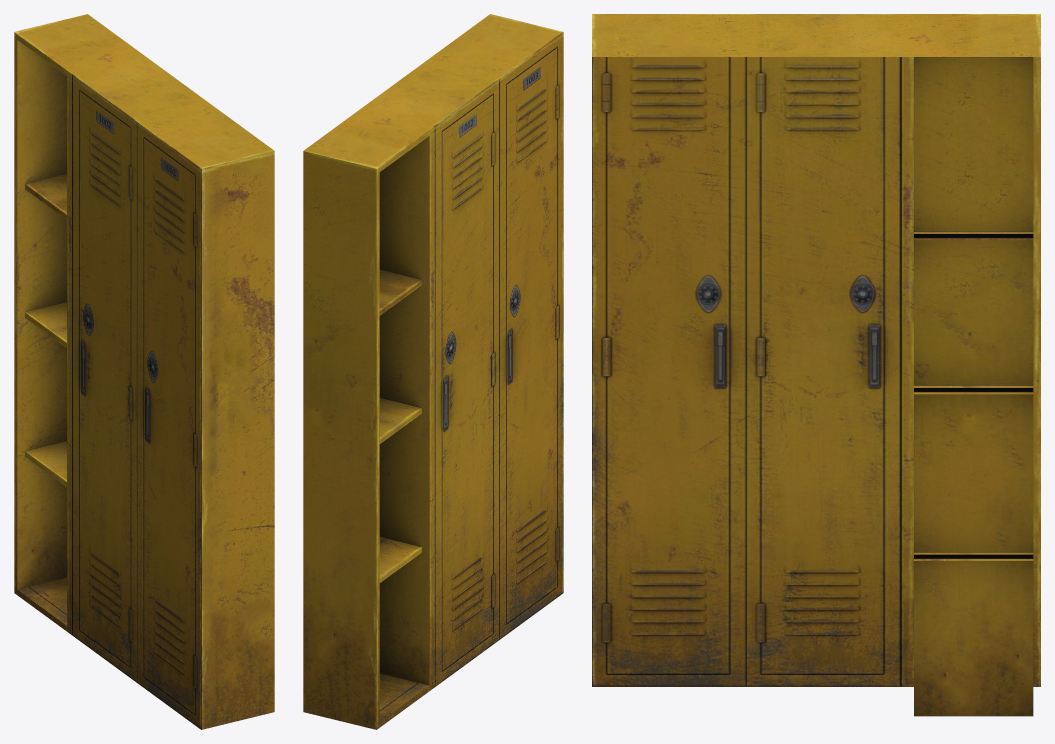
The model's file is shelf2.FBX.
3 renders of one model, left to right at view 1: azimuth 30°, elevation 25°; view 2: azimuth 150°, elevation 25°; view 3: azimuth 270°, elevation 25°, orthographic. The views are drawn at different scales.
Visible parts, largest first — view 1: shelf2; view 2: shelf2; view 3: shelf2.
Part boxes in pixels (x1,y1,x2,y2): shelf2: [14, 14, 274, 729]; shelf2: [303, 14, 563, 729]; shelf2: [592, 14, 1040, 716].
Bounding box in the file's own units: 10.65 × 77.76 × 47.01.
